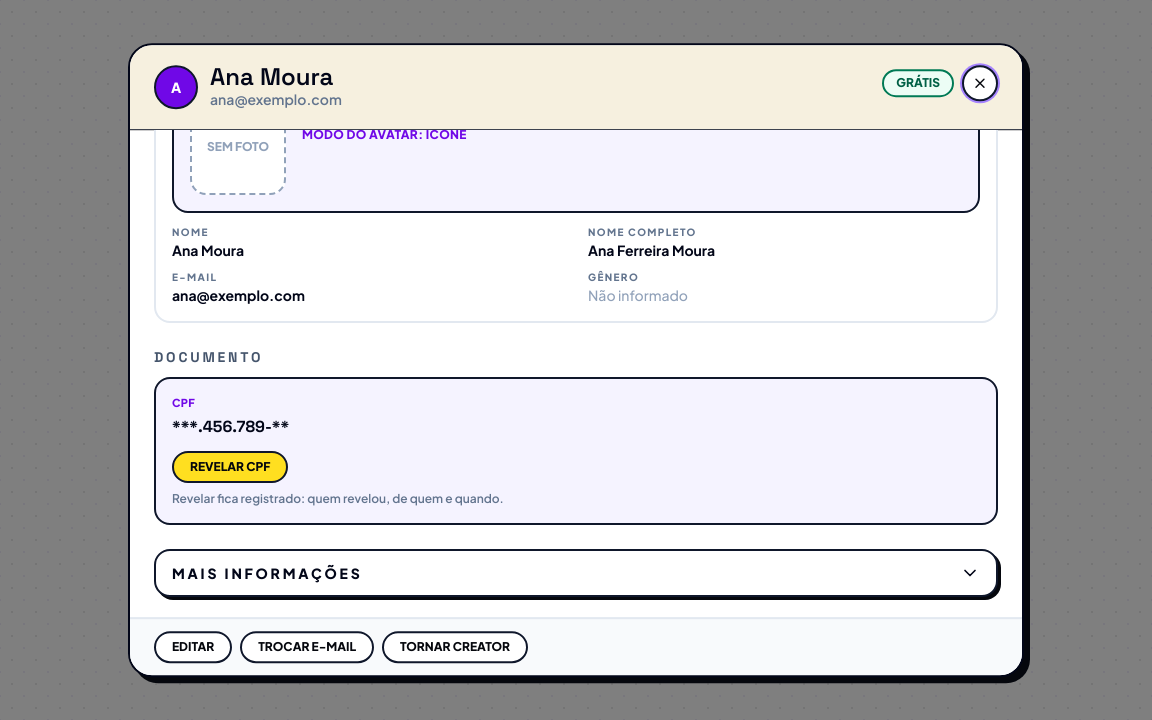
Scenario: toast para ACAO, inline para CARREGAMENTO › erro ao consultar o PostHog continua inline, dentro da secao Atividade
The width and height of the screenshot is (1152, 720).
(page scrolled)
Step 1. Click the button "Mais informações" → (267, 573), box [154,549,998,597]
(page scrolled)
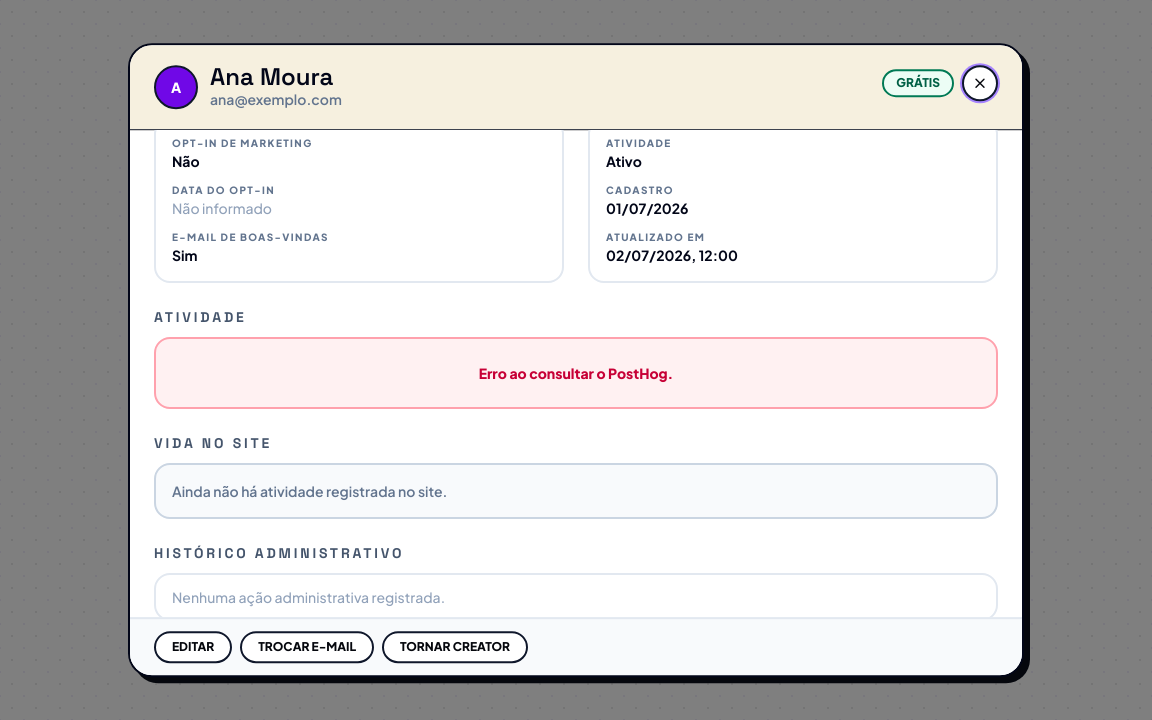
Result: the text "Erro ao consultar o PostHog." is shown at [154,337,998,409]
